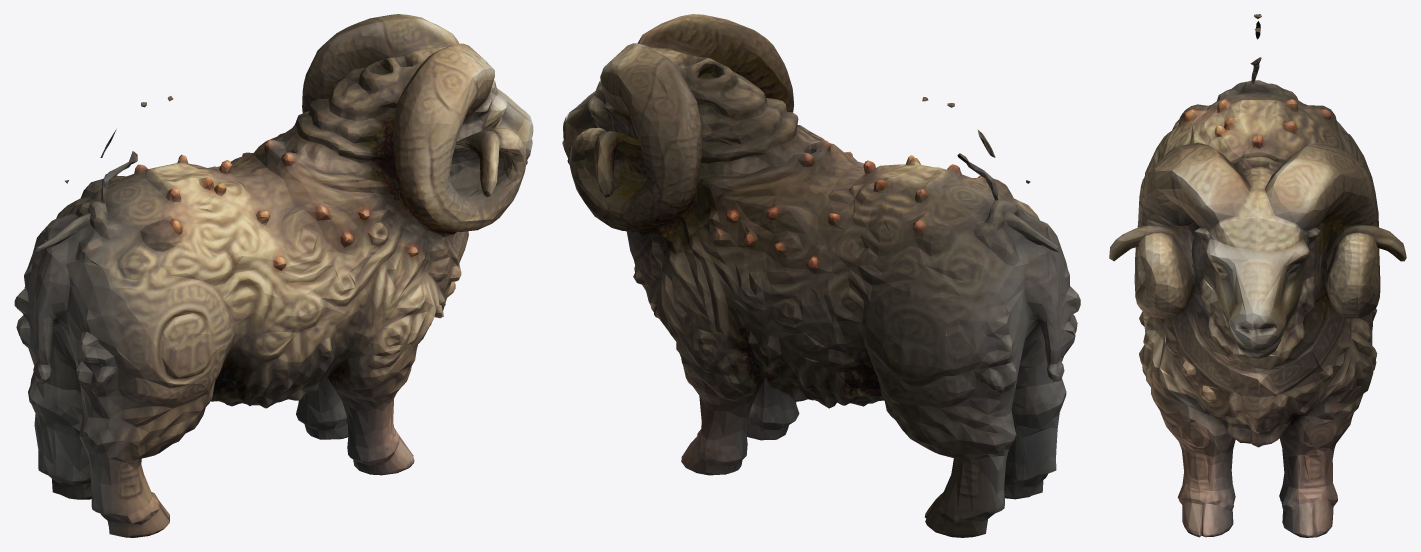
Rendered from emberlamb.glb.
3 renders of one model, left to right at view 1: azimuth 30°, elevation 25°; view 2: azimuth 150°, elevation 25°; view 3: azimuth 270°, elevation 25°, orthographic.
Visible parts, largest first — view 1: world; view 2: world; view 3: world.
Part boxes in pixels (bbox=[...]): world: bbox=[14, 14, 533, 537]; world: bbox=[562, 14, 1080, 537]; world: bbox=[1109, 14, 1406, 537].
Bounding box in the file's own units: 0.9996 × 0.7791 × 0.5123.
Materials: 1 (1 with a texture image).
